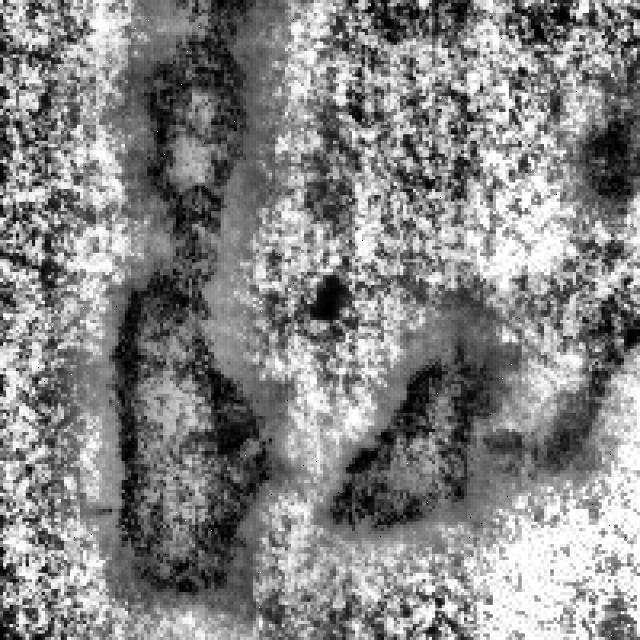Scratches: (102, 227, 282, 602), (326, 323, 560, 534), (134, 0, 278, 253)
